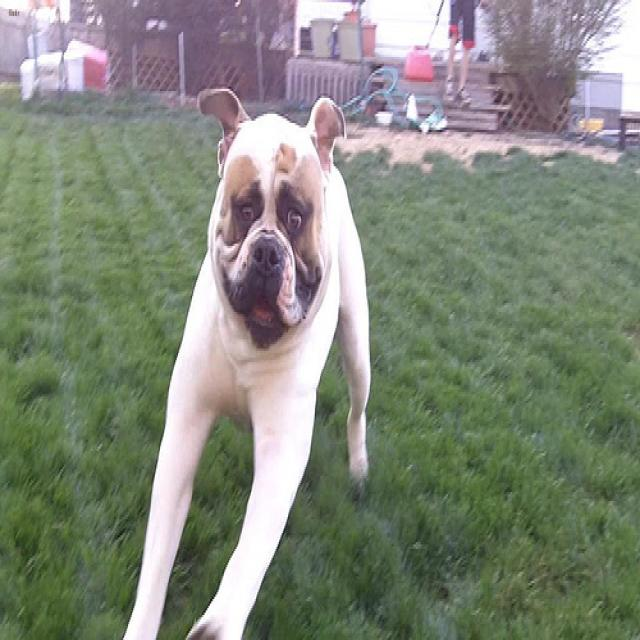dog-american_bulldog: (111, 68, 378, 635)
